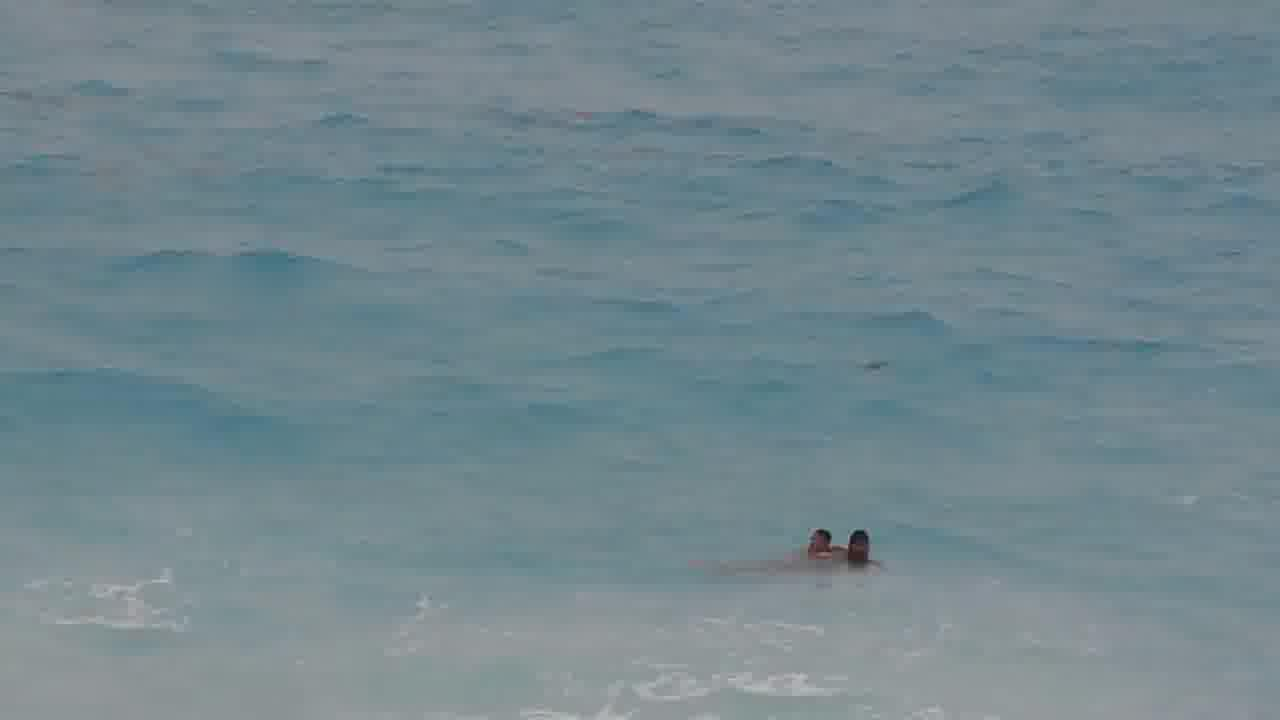swimmer: (838, 510, 877, 573), (790, 507, 821, 548)
